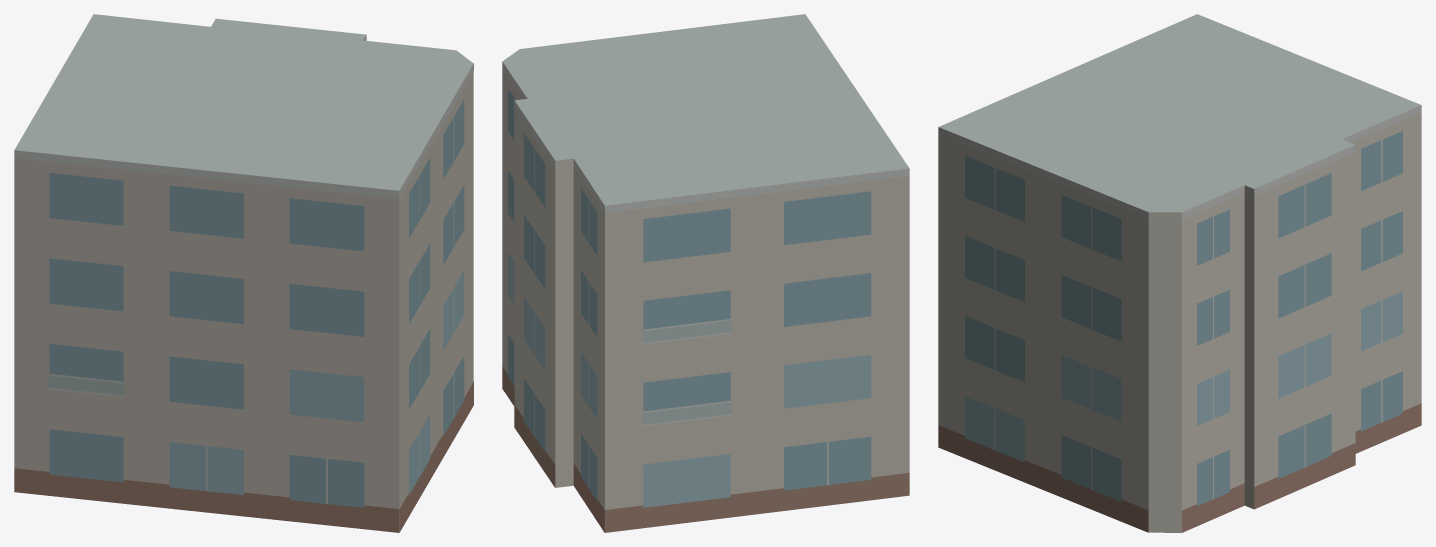
The model's file is survey-upis-32732617.glb.
3 views of the same model, side by side, from view 1: azimuth 30°, elevation 25°; view 2: azimuth 150°, elevation 25°; view 3: azimuth 270°, elevation 25° (orthographic). The views are drawn at different scales.
Parts seen in each view (by area): view 1: survey-upis-32732617.tmp; view 2: survey-upis-32732617.tmp; view 3: survey-upis-32732617.tmp.
Boxes of the visible parts, bbox=[...] form: survey-upis-32732617.tmp: bbox=[14, 14, 473, 532]; survey-upis-32732617.tmp: bbox=[502, 14, 909, 532]; survey-upis-32732617.tmp: bbox=[938, 14, 1421, 532].
Bounding box in the file's own units: 14.02 × 10.55 × 14.42.
